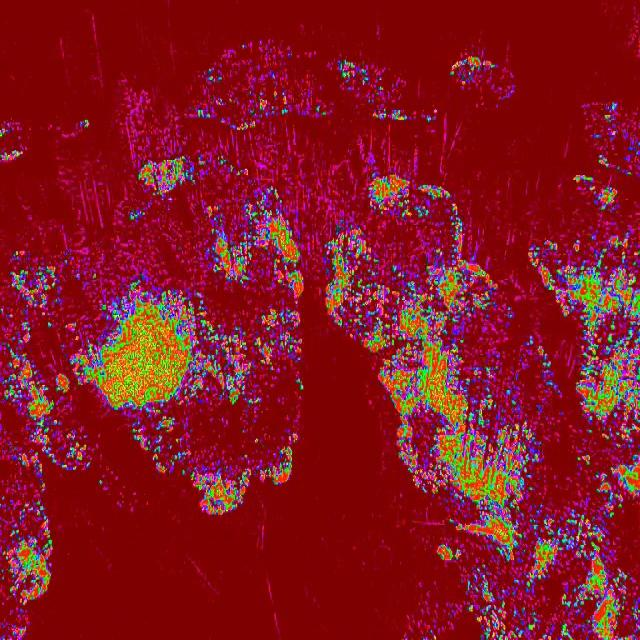fire: (92, 150, 306, 416), (565, 97, 640, 640), (323, 170, 510, 348), (378, 350, 544, 495), (0, 251, 60, 640), (430, 494, 566, 640), (193, 34, 329, 140), (130, 418, 298, 473), (337, 54, 439, 134), (449, 43, 519, 106), (525, 231, 566, 318), (188, 472, 254, 516), (0, 124, 26, 162)
